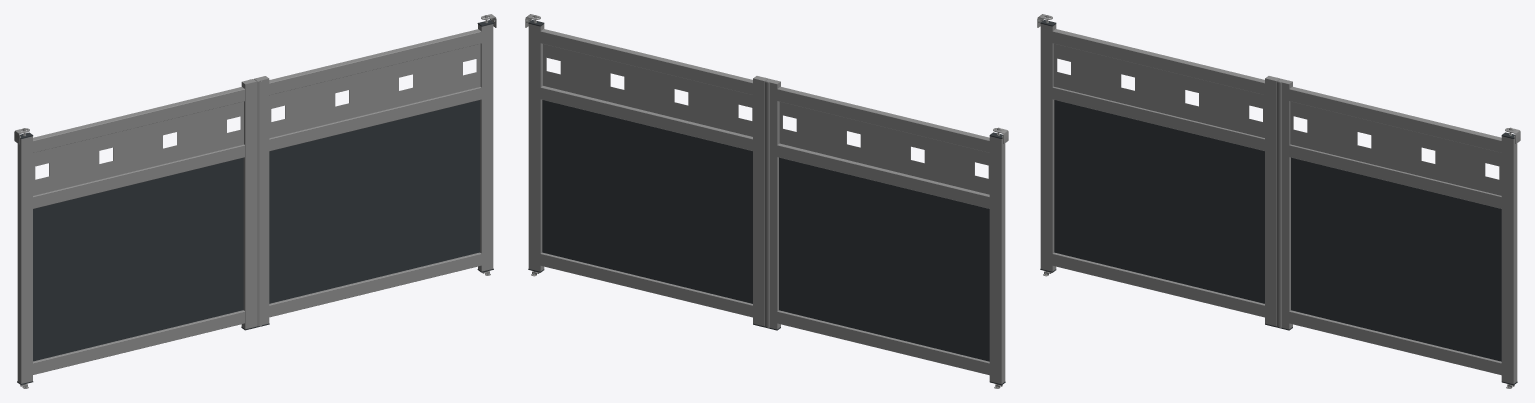
3 views of the same model, side by side, from view 1: azimuth 30°, elevation 25°; view 2: azimuth 150°, elevation 25°; view 3: azimuth 330°, elevation 25° (orthographic).
Visible parts, largest first — view 1: Chapa Alucobond004, Chapa Alucobond033, Rectangle065, Rectangle060, Shape107412643, Shape107412740, Shape107412743, Shape107412638, Shape107411795, Shape107412744, Shape107411796, Shape107412745 (+3 smaller); view 2: Chapa Alucobond004, Chapa Alucobond033, Rectangle060, Rectangle065, Shape107412643, Shape107412740, Shape107411795, Shape107412743, Shape107411806, Shape107412745, Shape107411796, Shape107412744 (+3 smaller); view 3: Chapa Alucobond033, Chapa Alucobond004, Rectangle065, Rectangle060, Shape107412740, Shape107412643, Shape107412743, Shape107411795, Shape107412744, Shape107411796, Shape107412638, Shape107412745 (+3 smaller).
Boxes of the visible parts, x1,y1,x2,y2 form: Chapa Alucobond004: (33, 157, 243, 361); Chapa Alucobond033: (269, 100, 479, 303); Rectangle065: (269, 44, 480, 138); Rectangle060: (33, 101, 243, 195); Shape107412643: (17, 136, 32, 383); Shape107412740: (478, 24, 493, 271); Shape107412743: (269, 29, 481, 95); Shape107412638: (241, 79, 256, 329); Shape107411795: (33, 87, 244, 152); Shape107412744: (269, 252, 481, 317); Shape107411796: (33, 310, 244, 374); Shape107412745: (269, 87, 481, 151); Chapa Alucobond004: (779, 157, 989, 361); Chapa Alucobond033: (542, 100, 752, 303); Rectangle060: (779, 102, 989, 194); Rectangle065: (543, 44, 752, 136); Shape107412643: (989, 136, 1005, 383); Shape107412740: (528, 24, 544, 271); Shape107411795: (777, 86, 989, 152); Shape107412743: (540, 29, 752, 94); Shape107411806: (777, 143, 989, 208); Shape107412745: (540, 86, 752, 150); Shape107411796: (777, 310, 989, 375); Shape107412744: (540, 252, 752, 317); Chapa Alucobond033: (1291, 157, 1501, 361); Chapa Alucobond004: (1054, 100, 1264, 303); Rectangle065: (1290, 101, 1501, 195); Rectangle060: (1053, 43, 1264, 137); Shape107412740: (1501, 136, 1517, 383); Shape107412643: (1040, 24, 1056, 271); Shape107412743: (1289, 86, 1501, 152); Shape107411795: (1052, 29, 1264, 94); Shape107412744: (1289, 310, 1501, 375); Shape107411796: (1052, 252, 1264, 317); Shape107412638: (1265, 76, 1280, 326); Shape107412745: (1289, 144, 1501, 208).
Bounding box in the file's own units: 3260 × 1688 × 68.93.
Materials: 5 (2 with a texture image).
